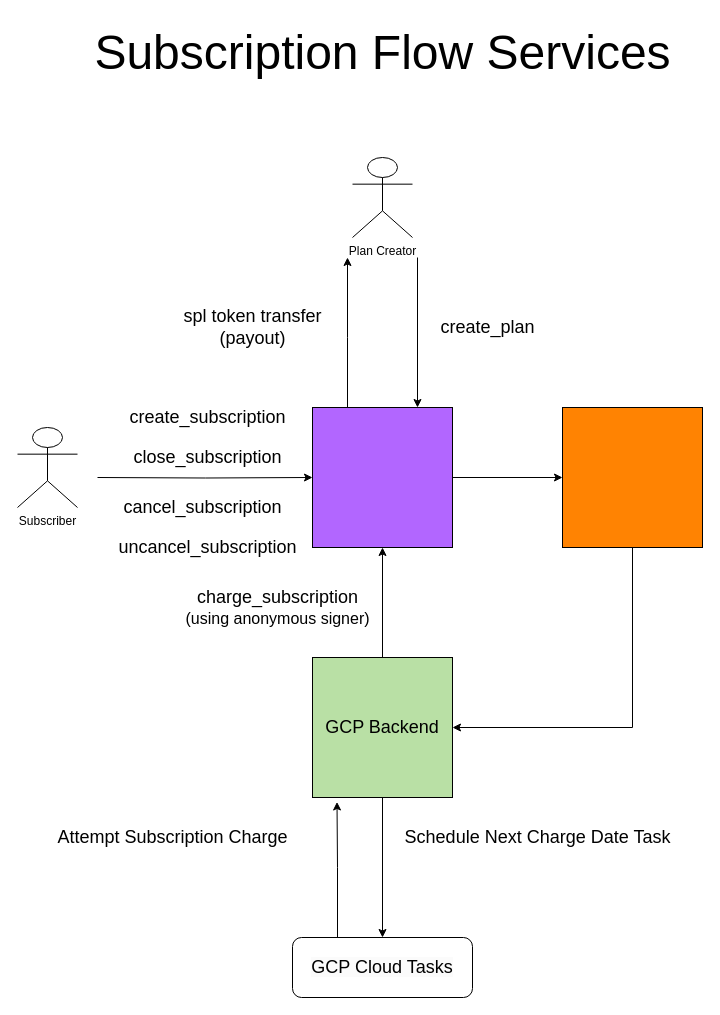
Image size: 720x1015. Some labels were removed from this diagram. Each missing label, with the centre of its shape:
Helius: (632,477)
Solana Program: (382,477)
